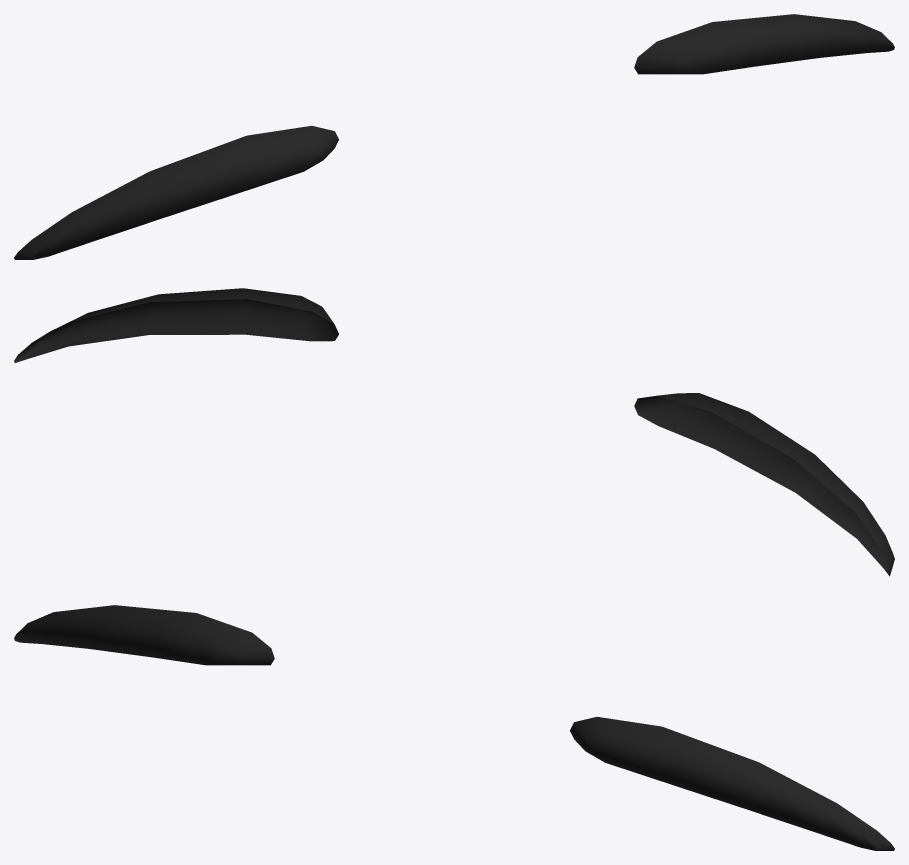
The model's file is eyebrow_7.fbx.
3 renders of one model, top to bottom at view 1: azimuth 30°, elevation 25°; view 2: azimuth 150°, elevation 25°; view 3: azimuth 330°, elevation 25°, orthographic.
Parts seen in each view (by area): view 1: eyebrow_7; view 2: eyebrow_7; view 3: eyebrow_7.
Part boxes in pixels (x1,y1,x2,y2): eyebrow_7: (14, 14, 894, 259); eyebrow_7: (14, 288, 894, 576); eyebrow_7: (14, 605, 894, 850).
Bounding box in the file's own units: 0.9164 × 0.0942 × 0.0927.
